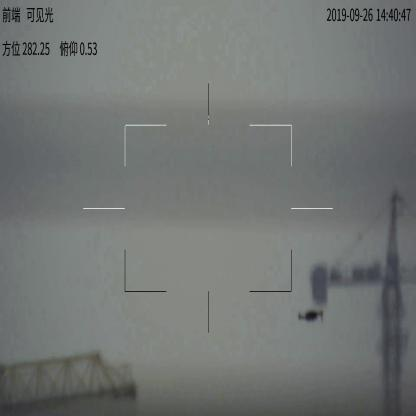uav: (293, 306, 327, 324)
